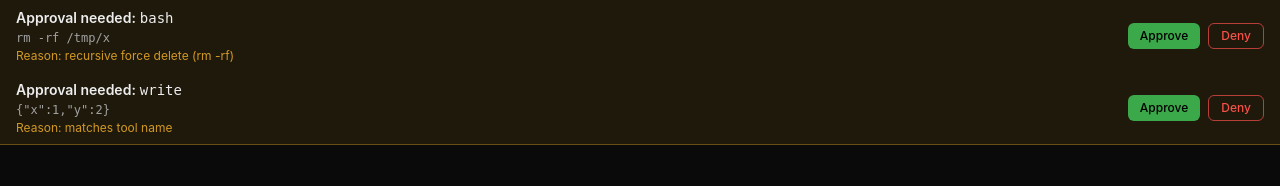
ApprovalBar › shows the error when resolving fails
Click the button "Approve" in the row of "bash": click(1164, 36) [1128,23,1200,49]
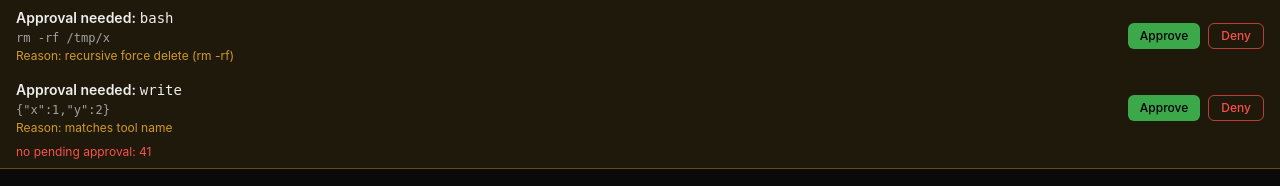
Expected: the message reads "no pending approval: 41", [16,144,152,159]
